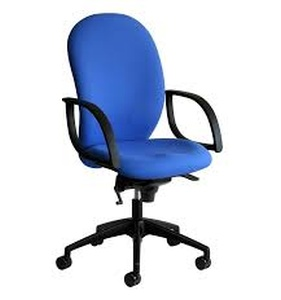chair: (55, 13, 224, 288)
